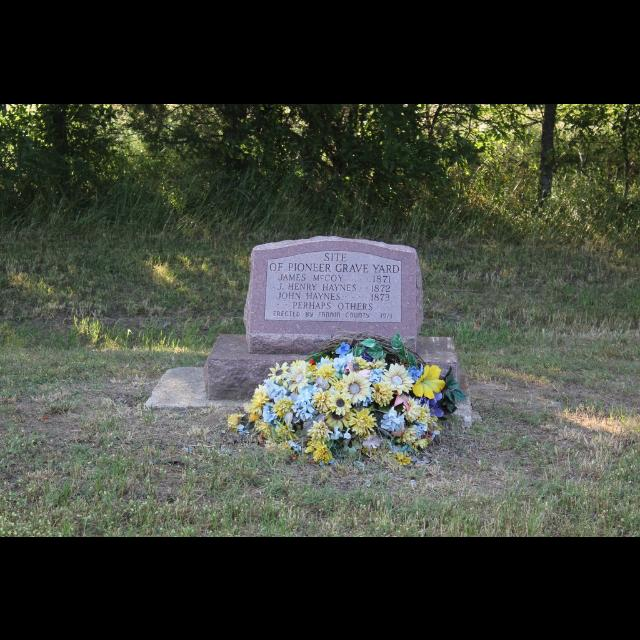Flower: (224, 344, 464, 464), (339, 372, 371, 402)
